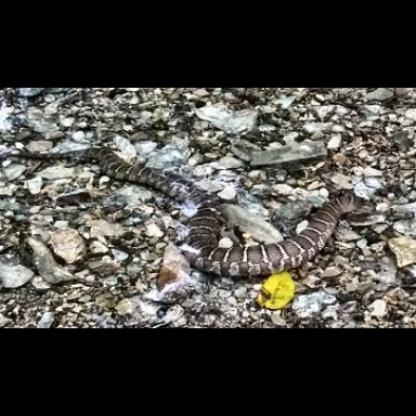Snake: (0, 134, 390, 279)
